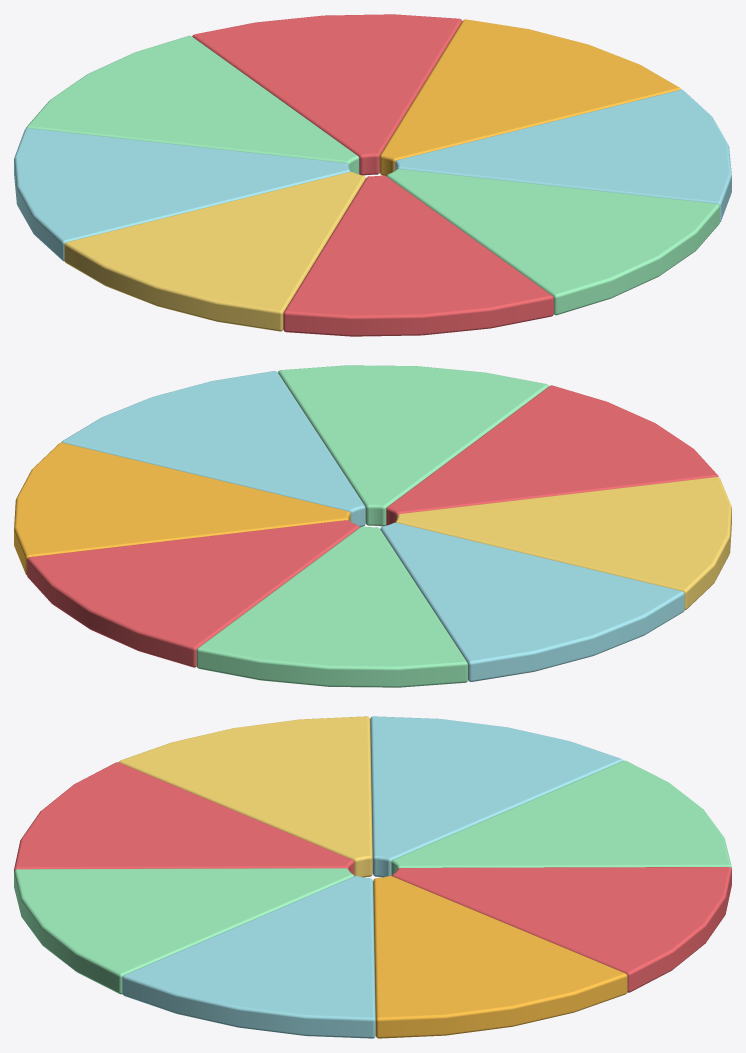
File: pieMeshes.glb
The picture shows the model from 3 angles, top to bottom: view 1: azimuth 30°, elevation 25°; view 2: azimuth 150°, elevation 25°; view 3: azimuth 270°, elevation 25°; orthographic projection.
Visible parts, largest first — view 1: PieMesh.001, PieMesh.016, PieMesh.010, PieMesh.015, PieMesh.013, PieMesh.011, PieMesh.012, PieMesh.014; view 2: PieMesh.014, PieMesh.015, PieMesh.013, PieMesh.016, PieMesh.010, PieMesh.012, PieMesh.011, PieMesh.001; view 3: PieMesh.011, PieMesh.012, PieMesh.010, PieMesh.013, PieMesh.015, PieMesh.016, PieMesh.001, PieMesh.014.
Part boxes in pixels (x1=…): PieMesh.001: x1=283, y1=175, x2=553, y2=336; PieMesh.016: x1=64, y1=172, x2=365, y2=331; PieMesh.010: x1=386, y1=169, x2=719, y2=315; PieMesh.015: x1=14, y1=128, x2=350, y2=261; PieMesh.013: x1=192, y1=14, x2=462, y2=175; PieMesh.011: x1=395, y1=89, x2=731, y2=221; PieMesh.012: x1=380, y1=19, x2=681, y2=176; PieMesh.014: x1=26, y1=35, x2=359, y2=174; PieMesh.014: x1=196, y1=526, x2=467, y2=687; PieMesh.015: x1=380, y1=522, x2=684, y2=681; PieMesh.013: x1=27, y1=520, x2=359, y2=667; PieMesh.016: x1=395, y1=477, x2=731, y2=610; PieMesh.010: x1=278, y1=365, x2=548, y2=526; PieMesh.012: x1=14, y1=442, x2=350, y2=574; PieMesh.011: x1=61, y1=371, x2=365, y2=527; PieMesh.001: x1=386, y1=385, x2=718, y2=525; PieMesh.011: x1=122, y1=876, x2=375, y2=1038; PieMesh.012: x1=373, y1=876, x2=627, y2=1038; PieMesh.010: x1=14, y1=868, x2=354, y2=994; PieMesh.013: x1=392, y1=867, x2=731, y2=992; PieMesh.015: x1=370, y1=716, x2=623, y2=877; PieMesh.016: x1=118, y1=716, x2=372, y2=877; PieMesh.001: x1=14, y1=762, x2=354, y2=874; PieMesh.014: x1=391, y1=760, x2=731, y2=875.
Bounding box in the file's own units: 4.45 × 0.1437 × 4.45.
